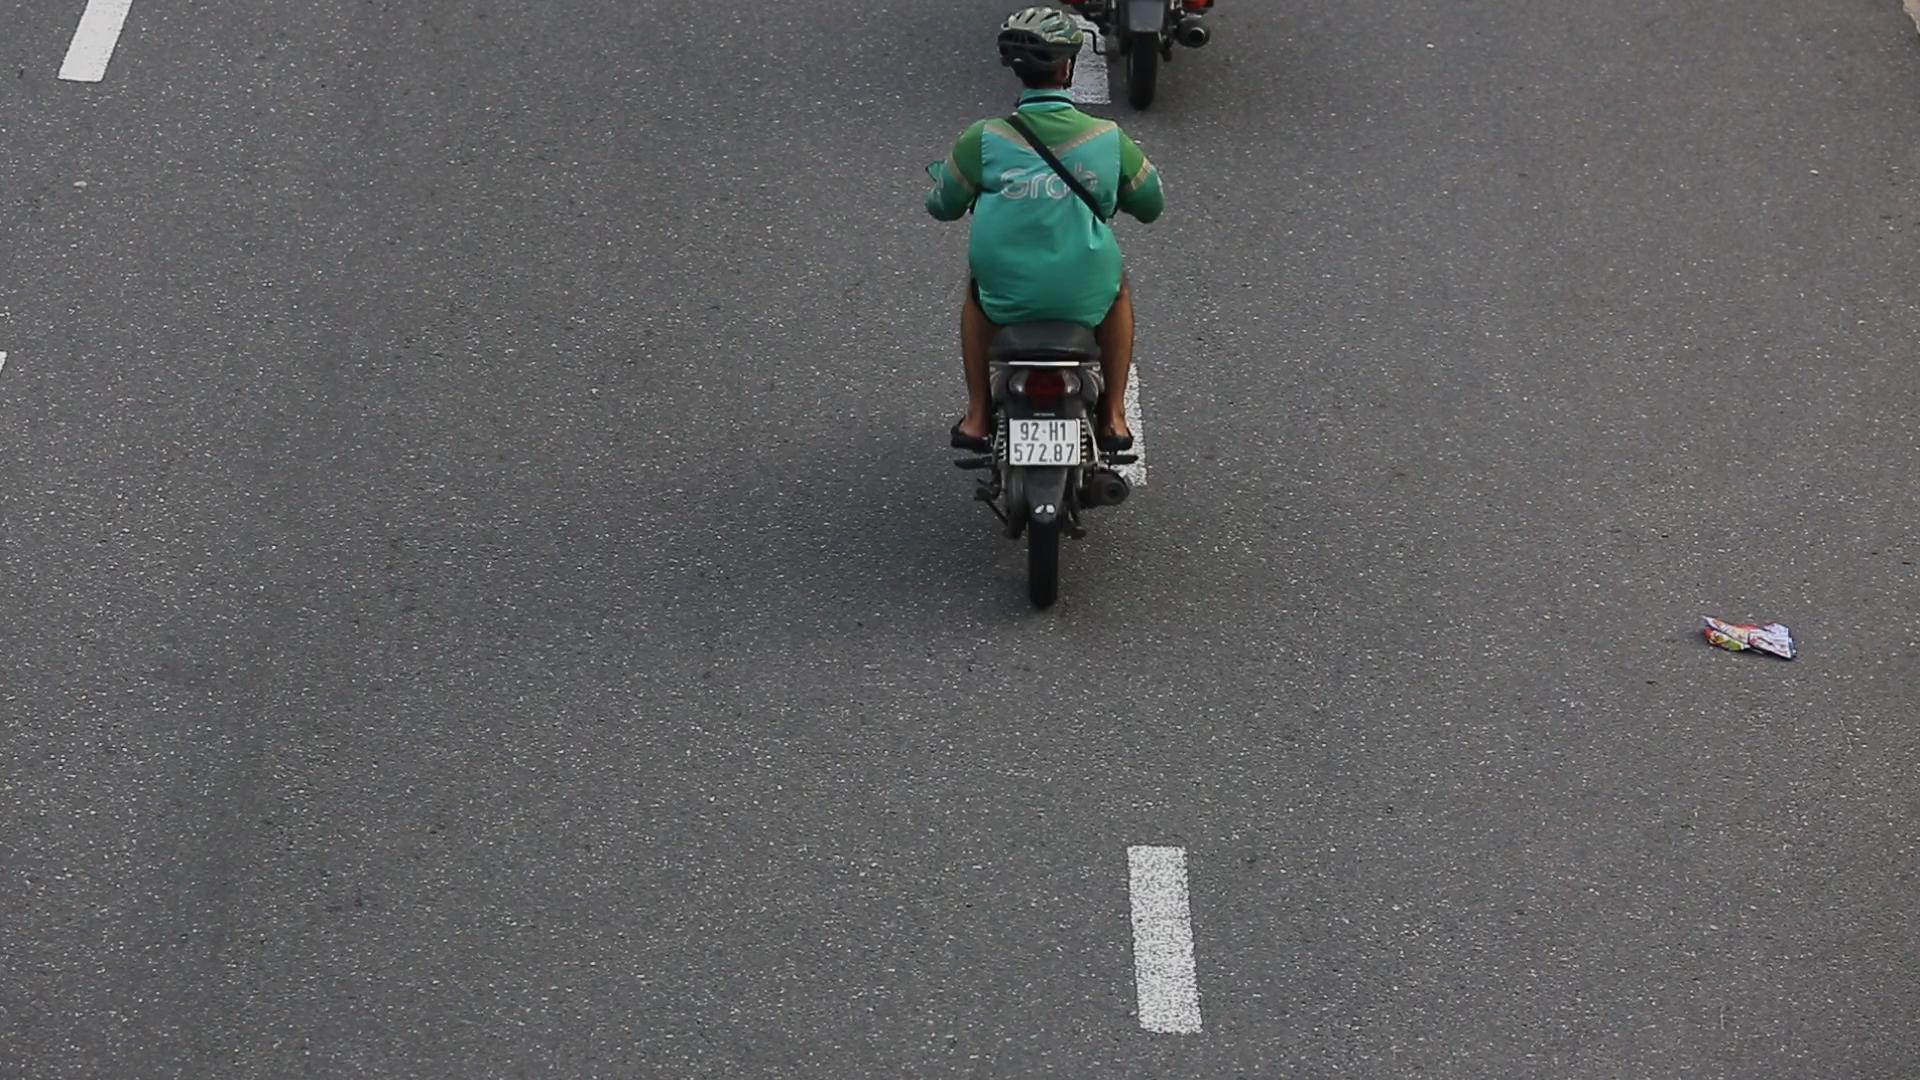motobike: (920, 0, 1187, 637)
